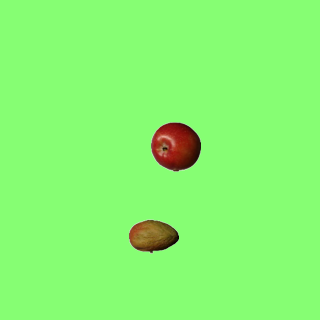Apple Braeburn: (150, 121, 200, 171)
Papaya: (128, 211, 178, 261)
